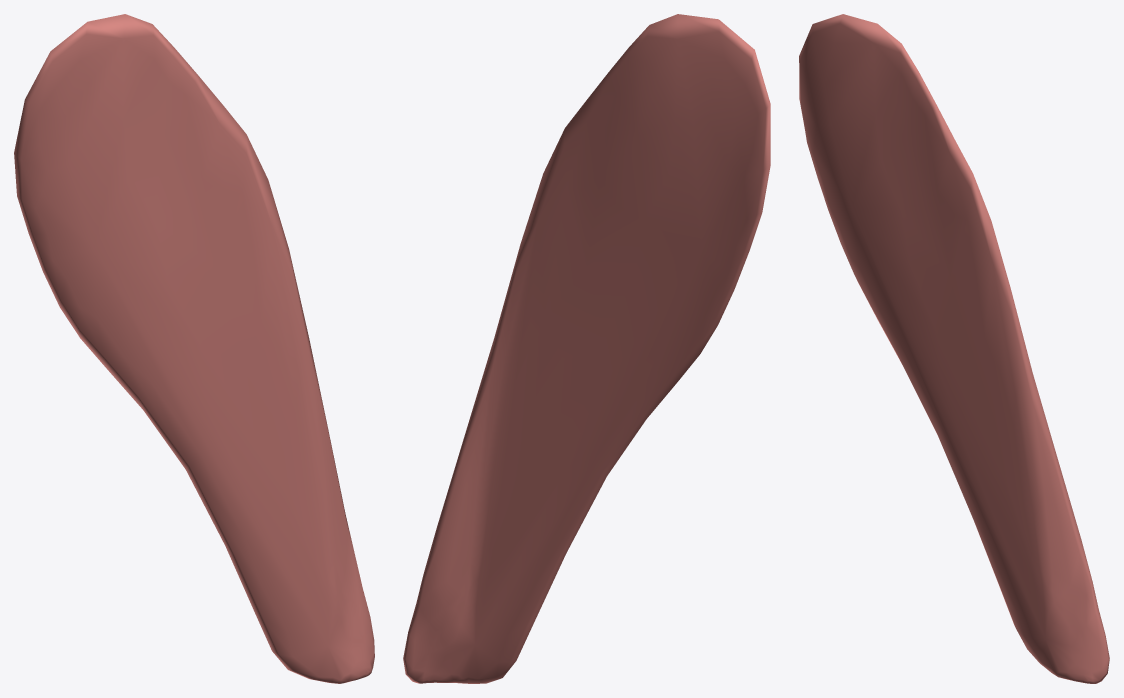
The picture shows the model from 3 angles, left to right: view 1: azimuth 30°, elevation 25°; view 2: azimuth 150°, elevation 25°; view 3: azimuth 330°, elevation 25°; orthographic projection. The views are drawn at different scales.
Parts seen in each view (by area): view 1: ZA_3620407d39a490d7; view 2: ZA_3620407d39a490d7; view 3: ZA_3620407d39a490d7.
Boxes of the visible parts, <box> form: ZA_3620407d39a490d7: <box>14,14,374,683</box>; ZA_3620407d39a490d7: <box>403,14,770,683</box>; ZA_3620407d39a490d7: <box>799,14,1109,683</box>.
Bounding box in the file's own units: 0.0232 × 0.0446 × 0.00221.
